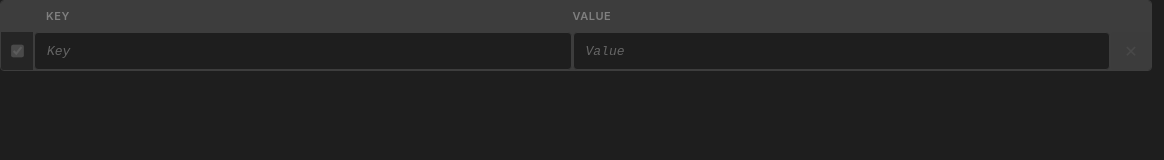
Test: DictionaryInput › Adding rows › should auto-add new row when typing in key field of last row
Type "NewKey" into the field with placeholder "Key".
click(303, 51); type("NewKey")  # box top-left (34, 32), bottom-right (572, 70)
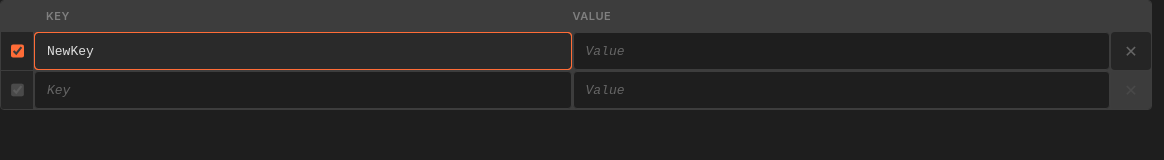
Now the number of fields with placeholder "Key" is 2, box top-left (34, 32), bottom-right (572, 70); top-left (34, 71), bottom-right (572, 109)
Now the field with placeholder "Key" is empty, box top-left (34, 71), bottom-right (572, 109)
